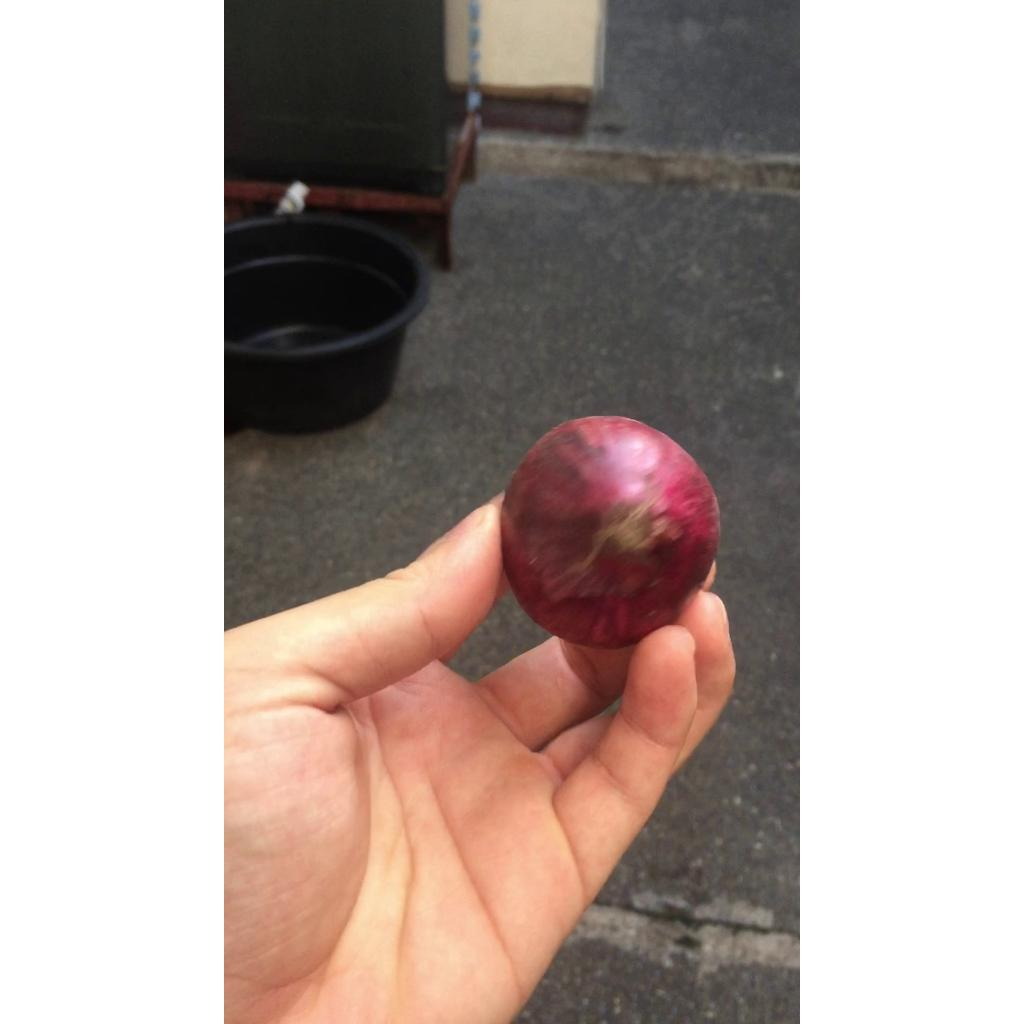Onion: (501, 416, 720, 649)
